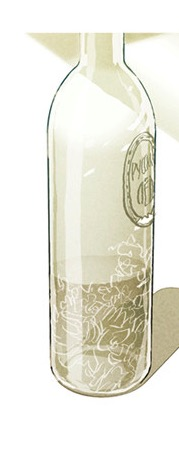bottle: (35, 28, 160, 403)
